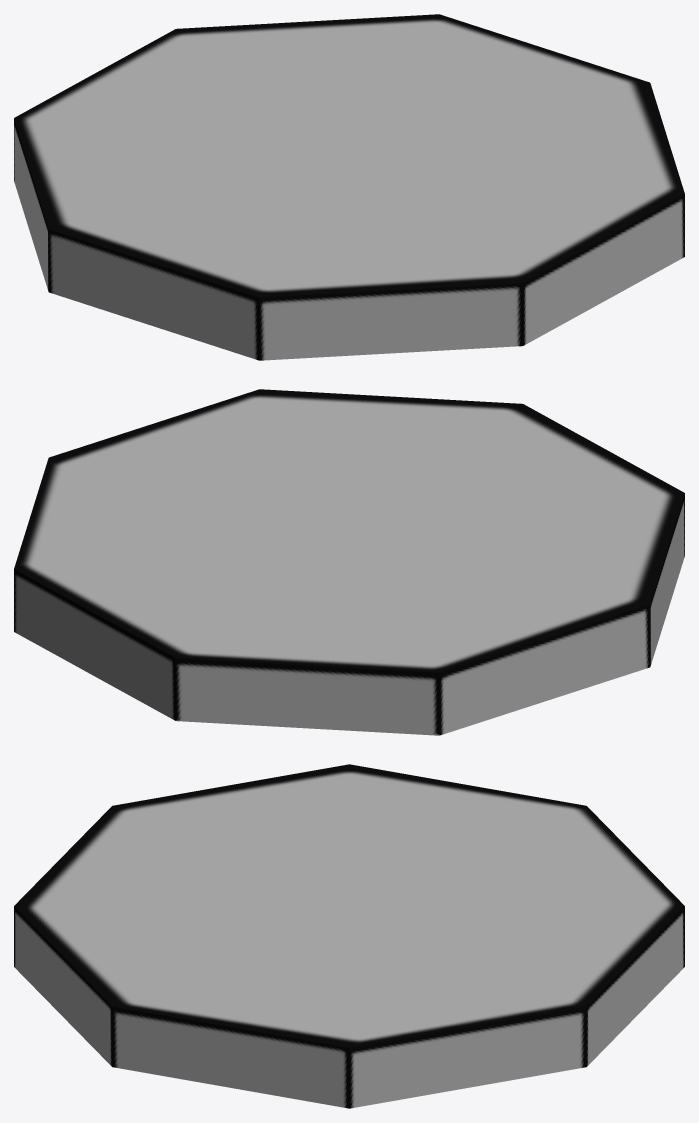
File: AM_Teleportplatte.fbx
3 renders of one model, top to bottom at view 1: azimuth 30°, elevation 25°; view 2: azimuth 150°, elevation 25°; view 3: azimuth 270°, elevation 25°, orthographic. The views are drawn at different scales.
Visible parts, largest first — view 1: Teleporter; view 2: Teleporter; view 3: Teleporter.
Part boxes in pixels (x1,y1,x2,y2): Teleporter: (14,14,684,360); Teleporter: (14,389,684,735); Teleporter: (14,764,684,1108).
Size of the model in its own units: 200 by 20 by 200.
